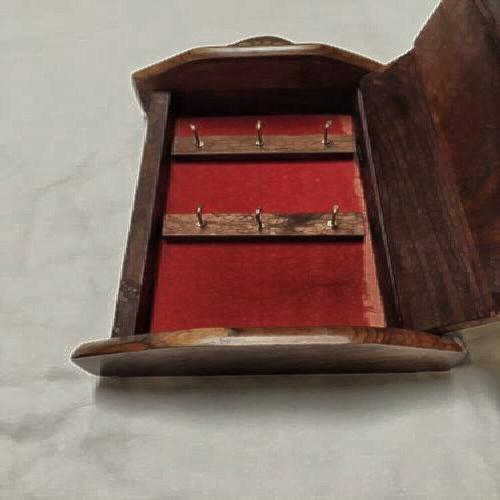cabinet: (80, 46, 468, 373)
